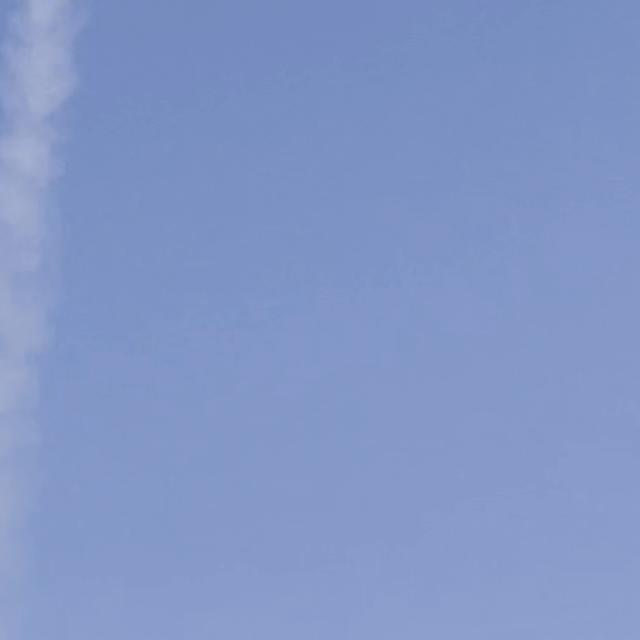smoke_trail_with_rocket: (0, 0, 79, 557)
